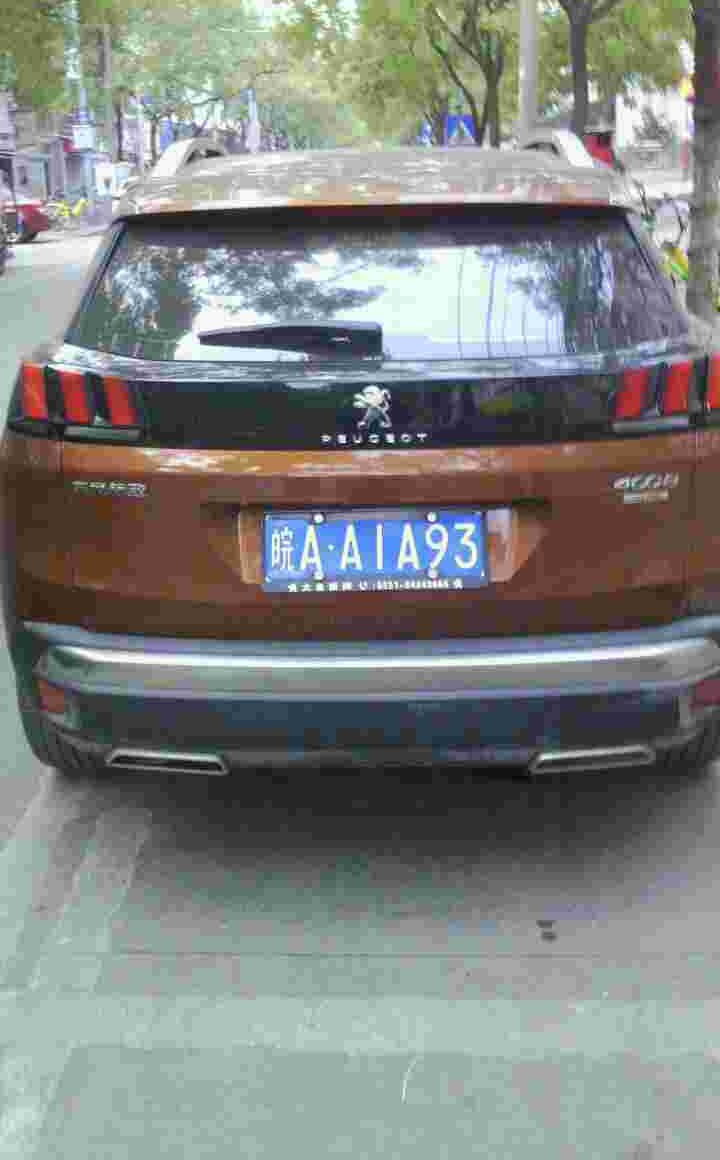license_plate: (270, 509, 493, 588)
